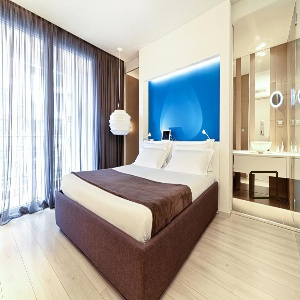square: (249, 170, 280, 199)
